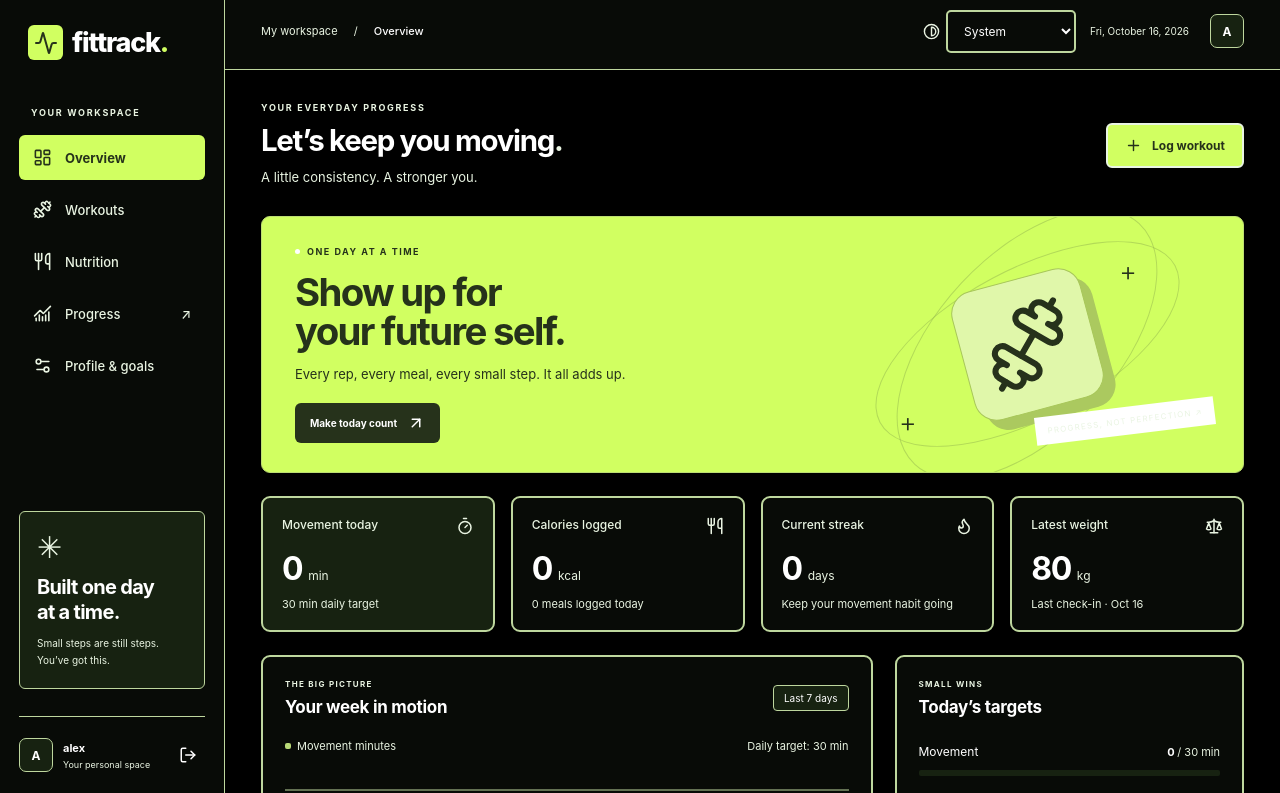
it: edits an existing measurement and updates the history and trend
expect the heading "Let’s keep you moving." is shown: met, box [261,123,563,158]
Click the link "Progress ↗".
click(112, 314)  # box [33,304,191,323]
(page scrolled)
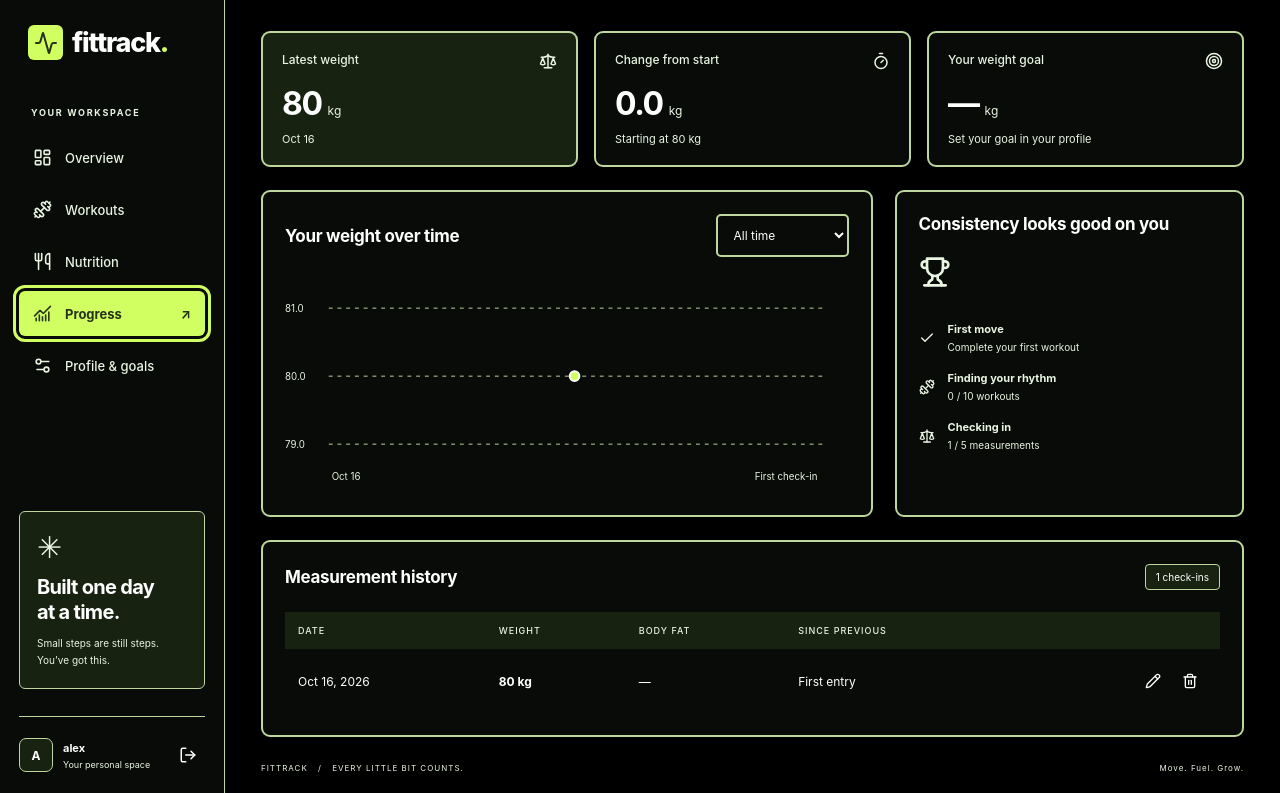
Click the button named "Edit measurement 2026-10-16".
click(1153, 681)  # box [1136,664,1170,698]
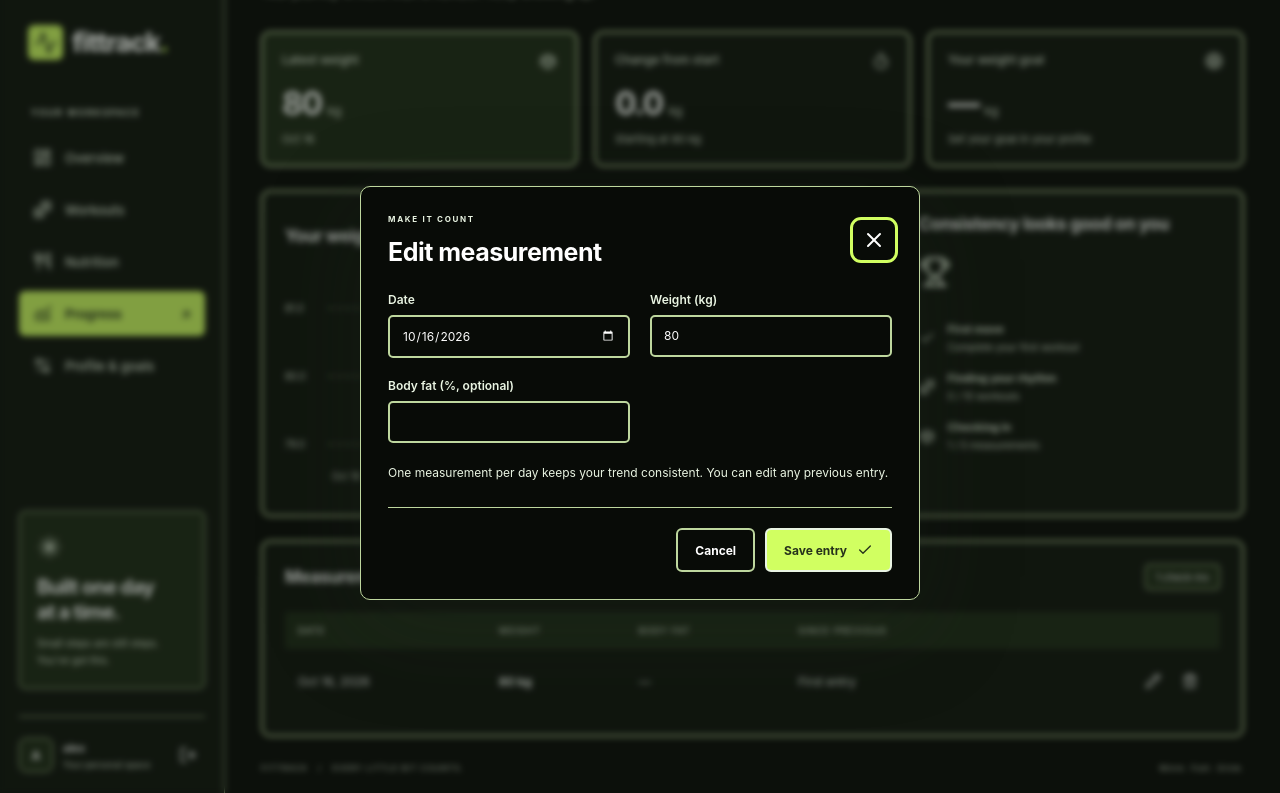
Replace the text in the number field labelled "Weight (kg)" with "79.5" at [771, 336], box [650,315,892,357]
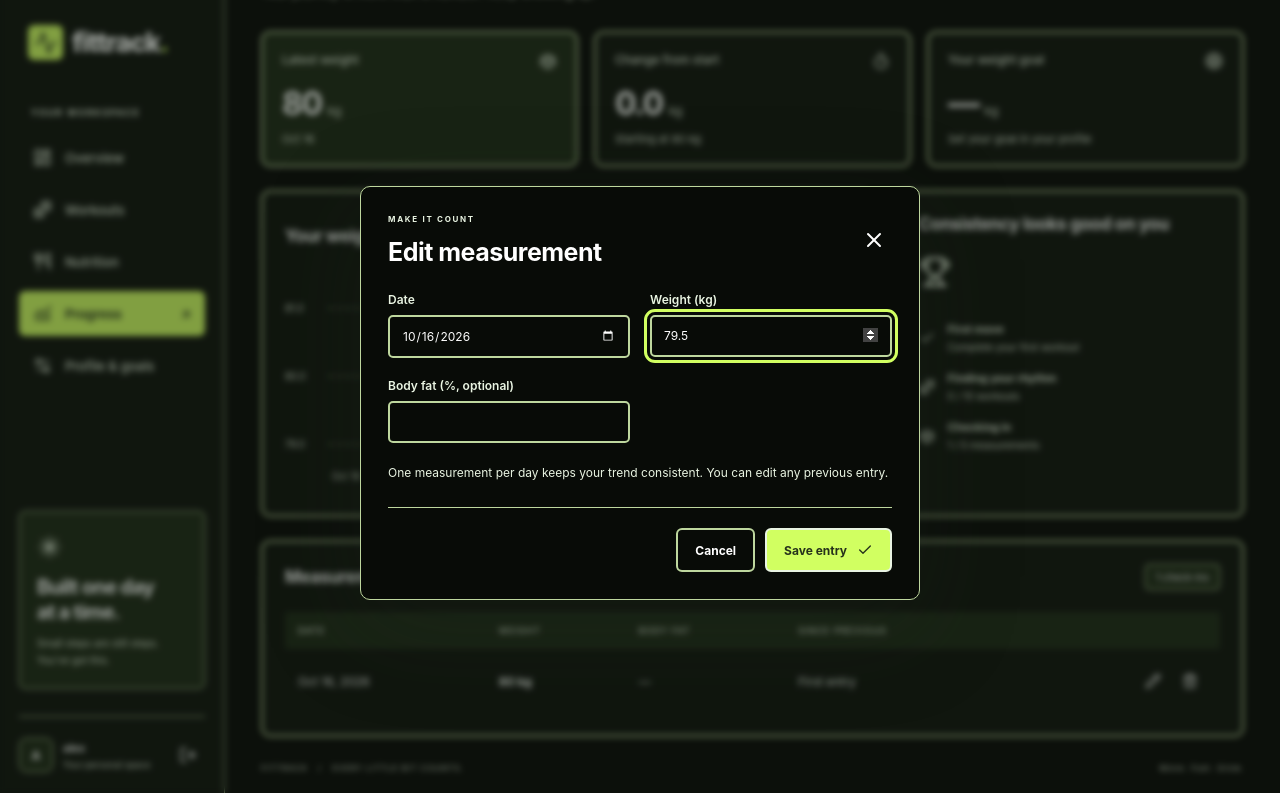
Click the button "Save entry".
click(829, 550)  # box [765,528,892,572]
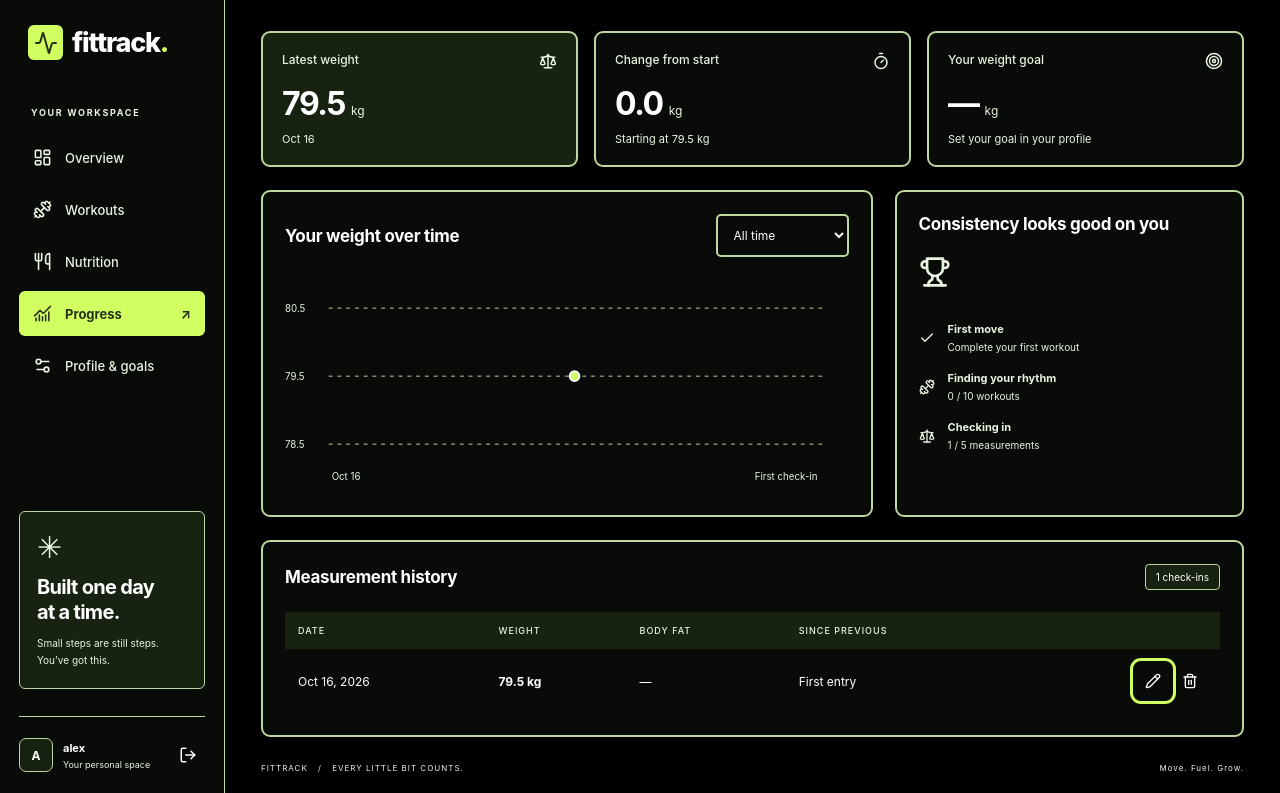
expect the dialog is gone: met
expect the cell "79.5 kg" is shown: met, box [485,649,626,713]
